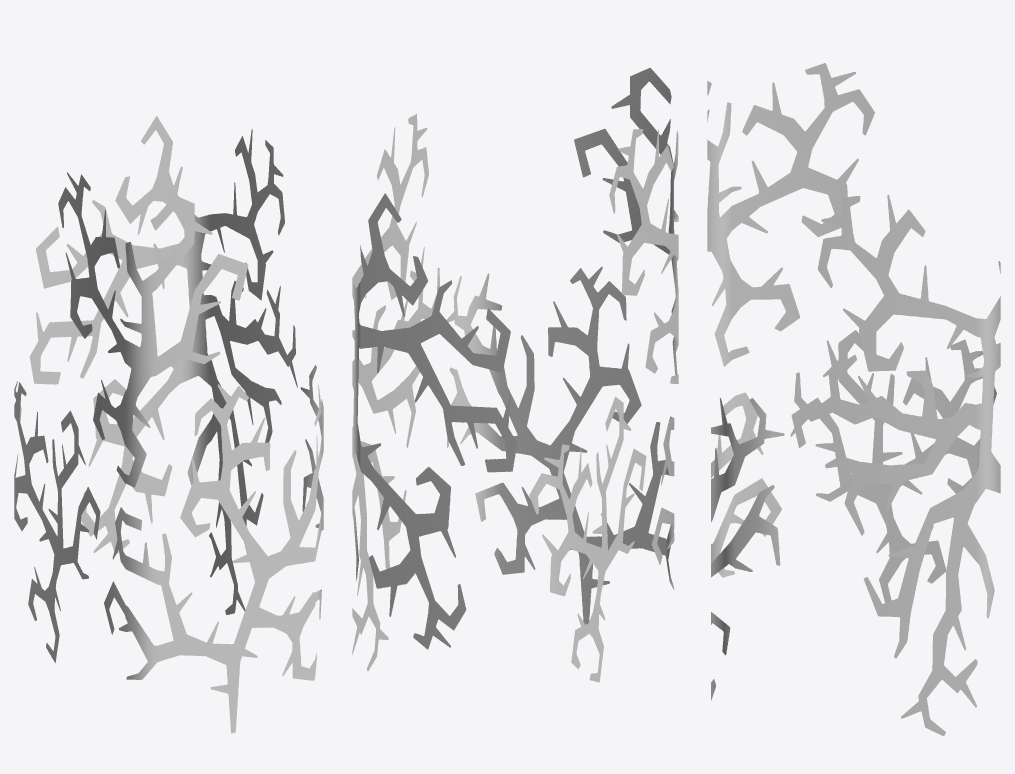
Rendered from SM_Env_Vine_Pillar_Ornate_Square_01.fbx.
3 views of the same model, side by side, from view 1: azimuth 30°, elevation 25°; view 2: azimuth 150°, elevation 25°; view 3: azimuth 270°, elevation 25° (orthographic). The views are drawn at different scales.
Parts seen in each view (by area): view 1: SM_Env_Vine_Pillar_Ornate_Square_01; view 2: SM_Env_Vine_Pillar_Ornate_Square_01; view 3: SM_Env_Vine_Pillar_Ornate_Square_01.
Boxes of the visible parts, <box> form: SM_Env_Vine_Pillar_Ornate_Square_01: <box>14,116,323,733</box>; SM_Env_Vine_Pillar_Ornate_Square_01: <box>352,68,678,682</box>; SM_Env_Vine_Pillar_Ornate_Square_01: <box>707,63,1000,736</box>.
Size of the model in its own units: 92.32 by 268 by 109.
